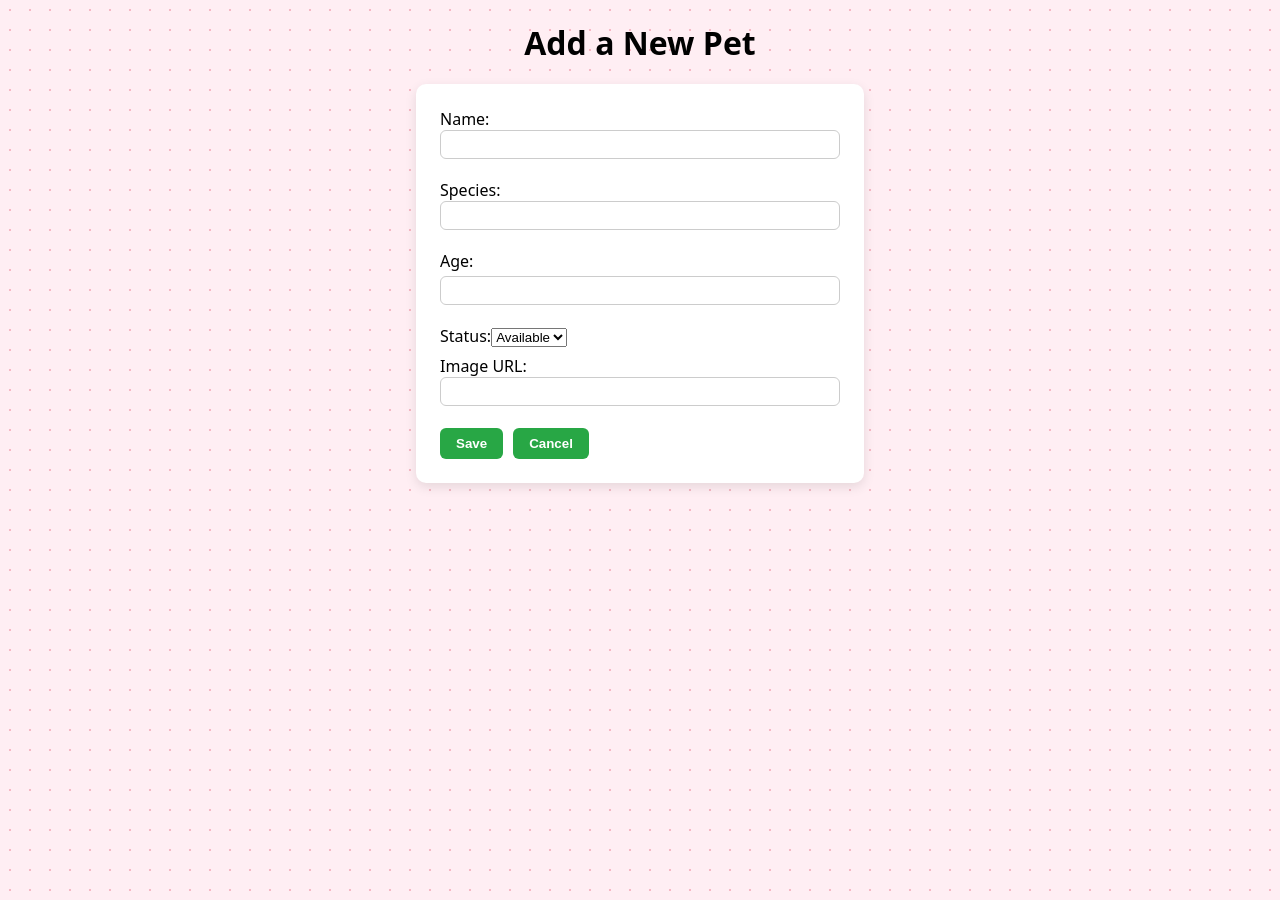
Test: AddEditPet Component › shows error when age is invalid
Type "Luna" into the field labelled "Name:". click: (640, 145)
box: [440,130,840,159]
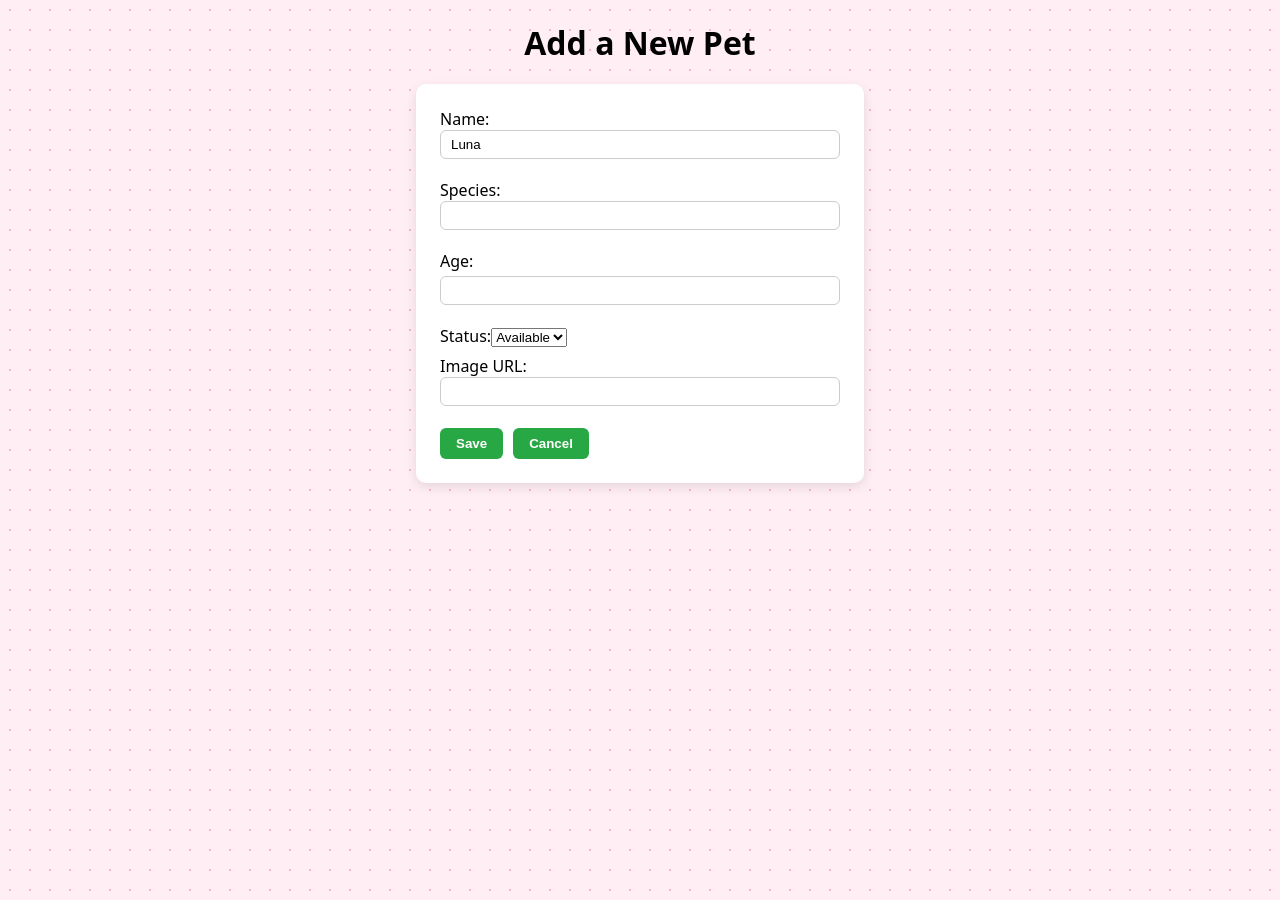
Type "Cat" into the field labelled "Species:". click: (640, 216)
box: [440,201,840,230]
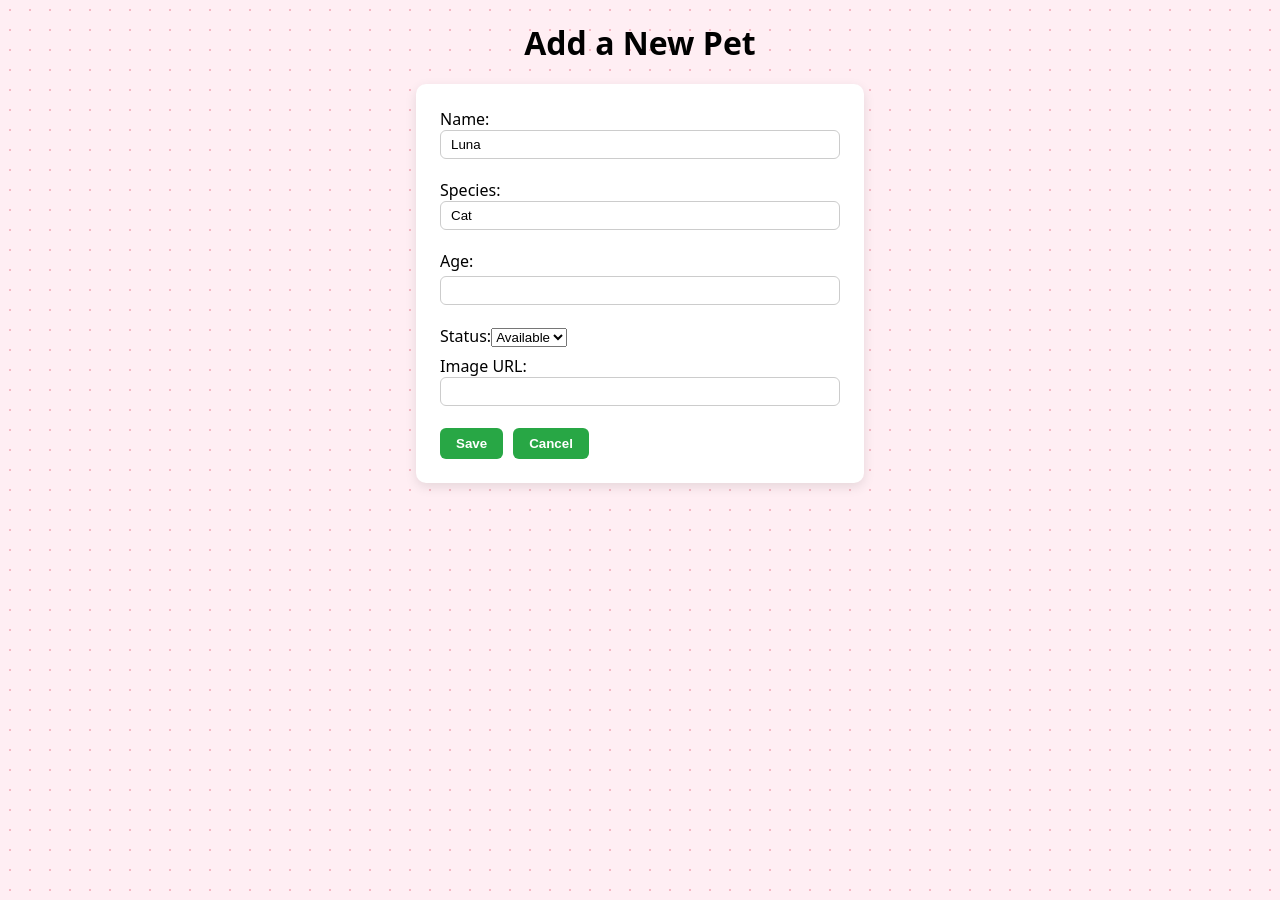
Type "-3" into the number field labelled "Age:". click: (640, 291)
box: [440,276,840,305]
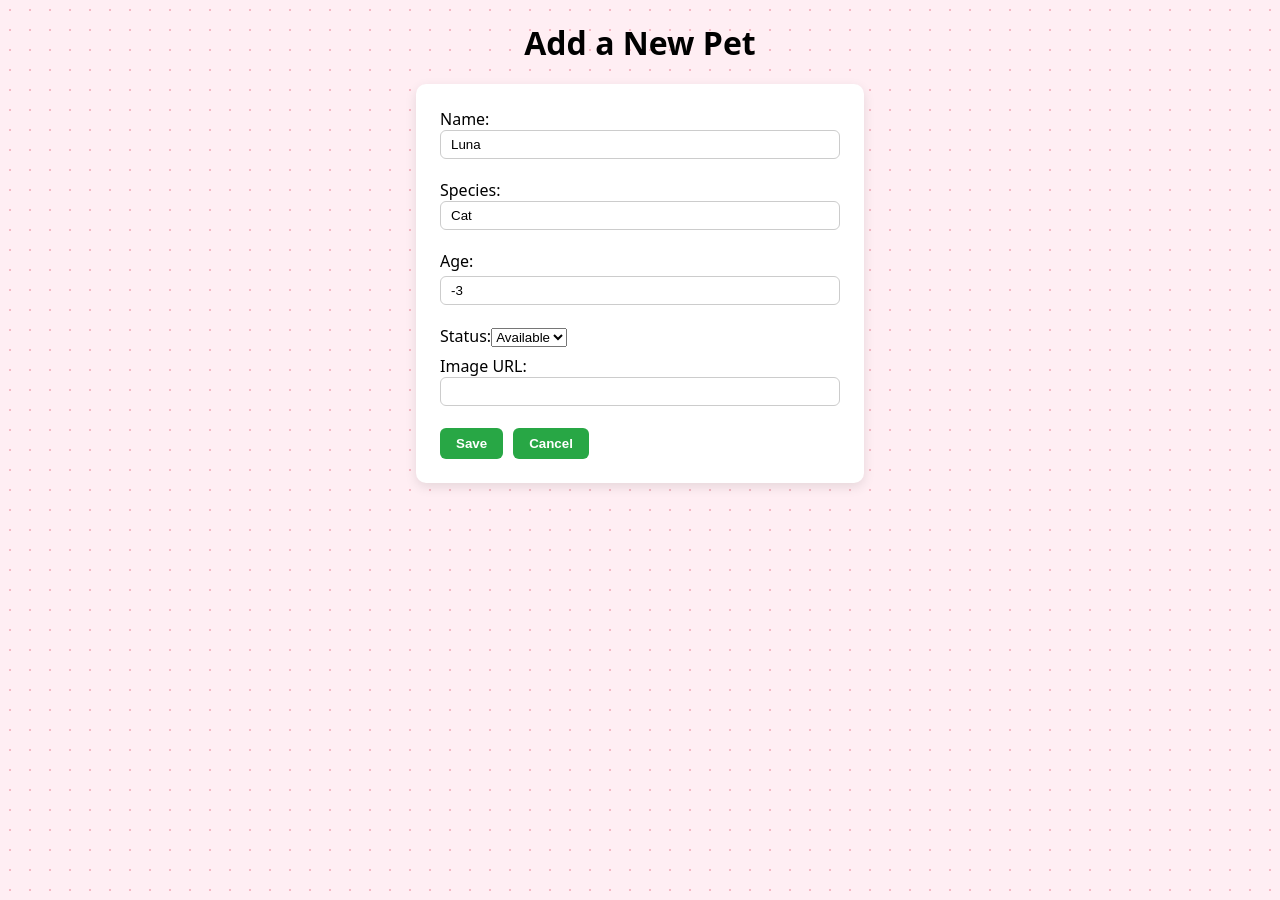
Select "Available" in the dropdown labelled "Status:". click: (529, 338)
box: [491,328,567,347]
Type "https://example.com/luna.jpg" into the field labelled "Image URL:". click: (640, 392)
box: [440,377,840,406]
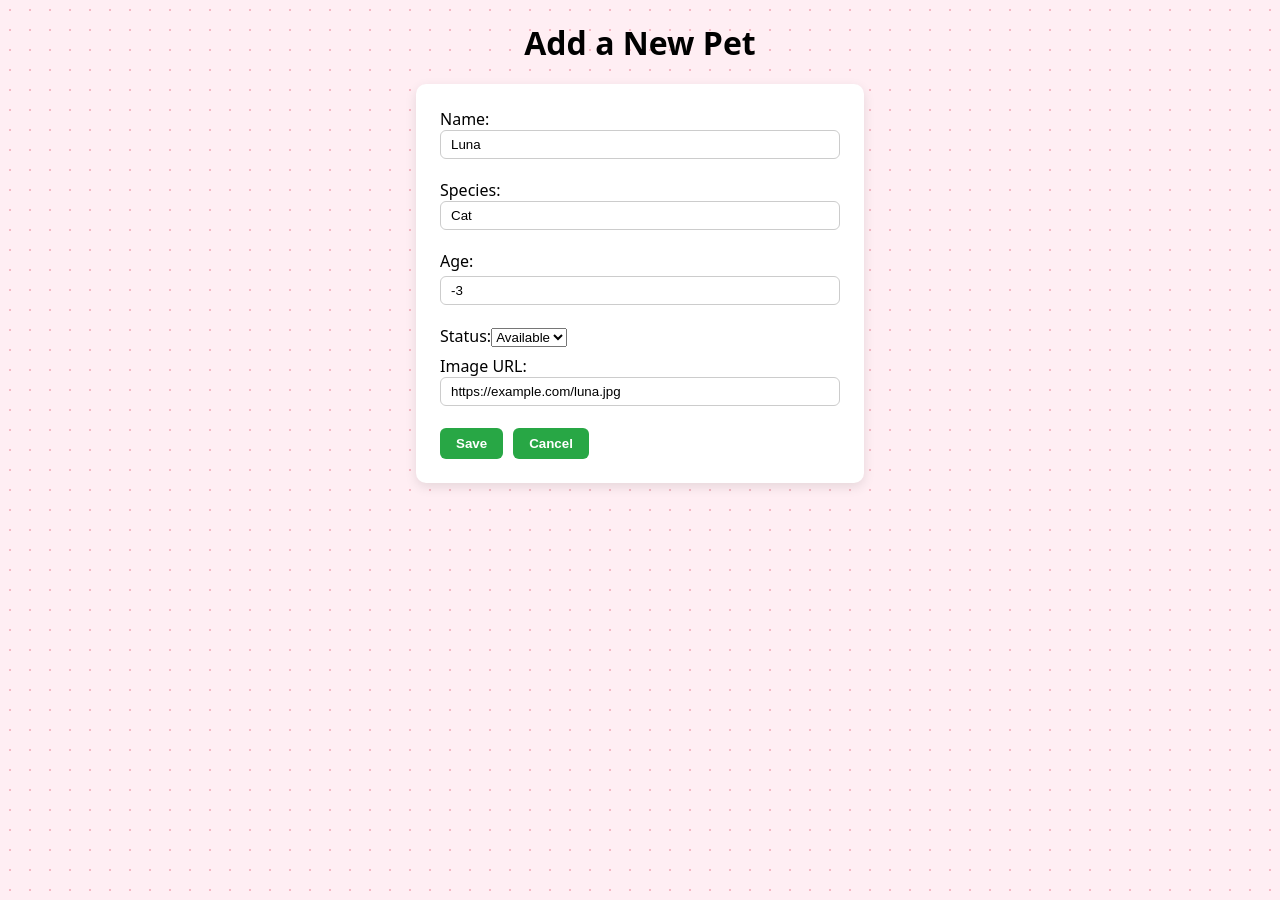
Click the button "Save". click: (472, 444)
box: [440,428,503,459]
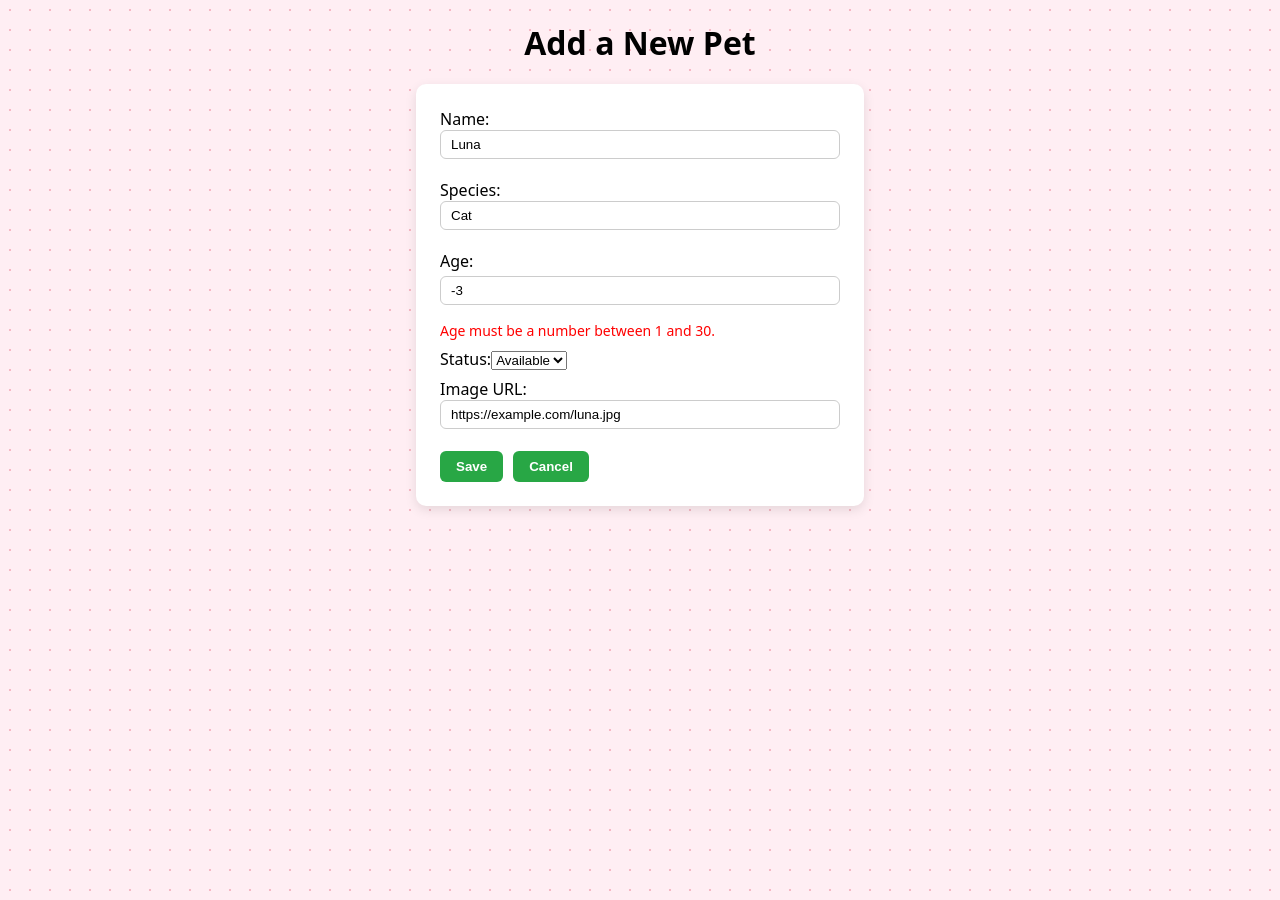
Result: the text "Age must be a number between 1 and 30." is shown at [440,321,715,340]
